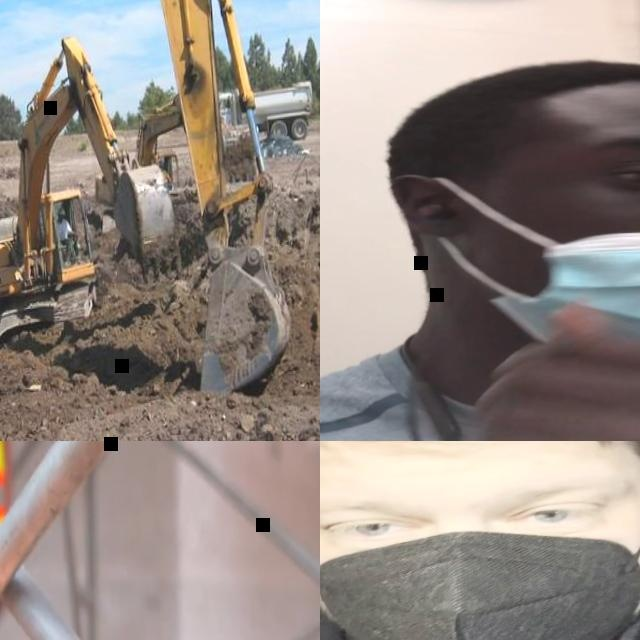Hardhat: (57, 209, 67, 216)
Mask: (395, 164, 640, 366), (320, 496, 640, 640)
NO-Hardhat: (396, 55, 640, 130)
NO-Mask: (58, 219, 64, 225)
NO-Safety Vest: (320, 355, 640, 441), (320, 589, 640, 640), (56, 222, 68, 242)
Person: (320, 53, 640, 441), (320, 441, 640, 640), (54, 208, 79, 261)
machinery: (0, 0, 296, 441), (0, 32, 186, 359), (215, 80, 314, 146)
